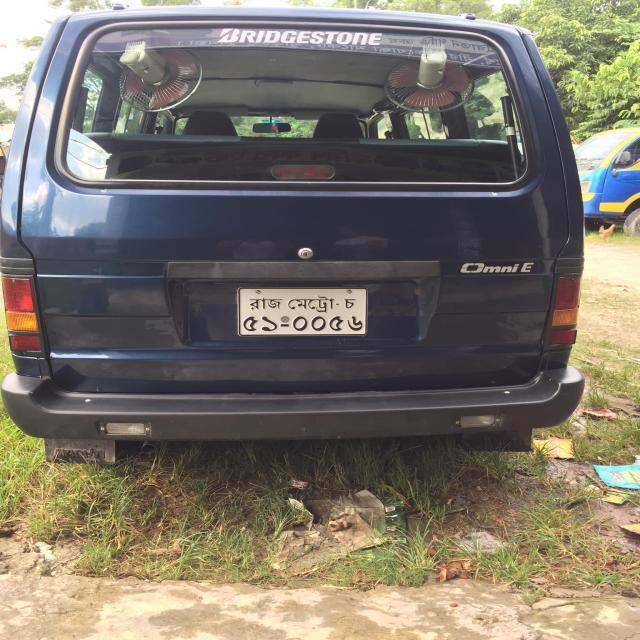numberplate: (236, 285, 367, 337)
